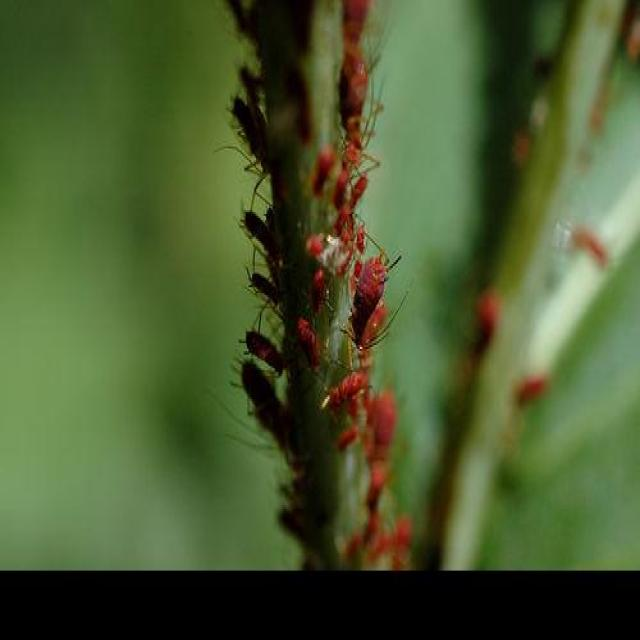Aphids: (351, 225, 396, 356), (313, 346, 370, 416)
